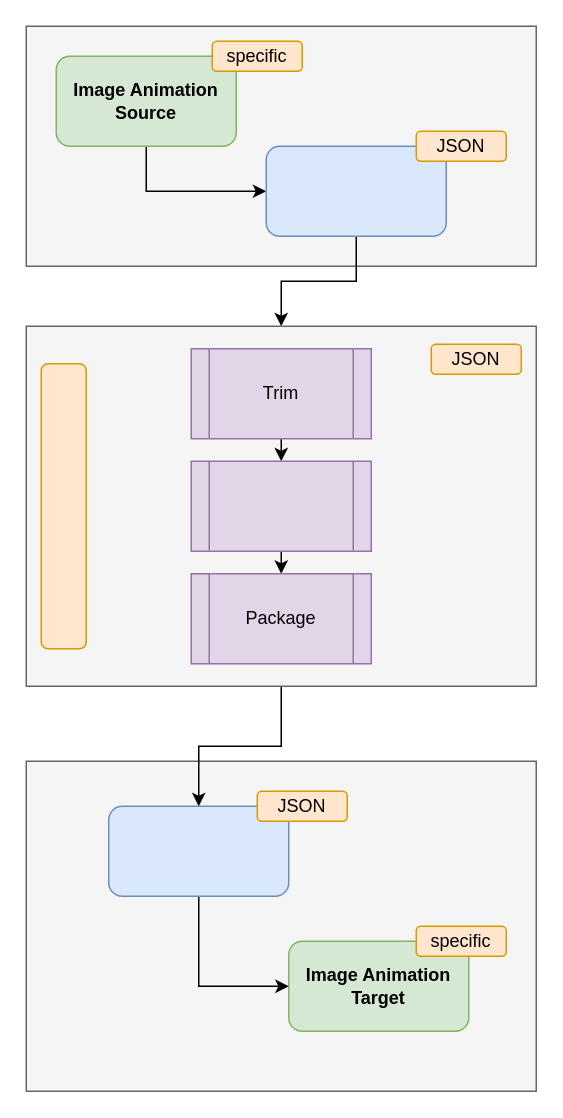
This 563x1118 diagram has some shape labels left out. Each missing label, with the box of its shape:
Export Plugin Generator in Source Scope: (265, 145, 446, 236)
Import Plugin Generator in Target Scope: (107, 805, 289, 896)
Merge: (190, 460, 371, 551)
SATF: (40, 362, 86, 649)
